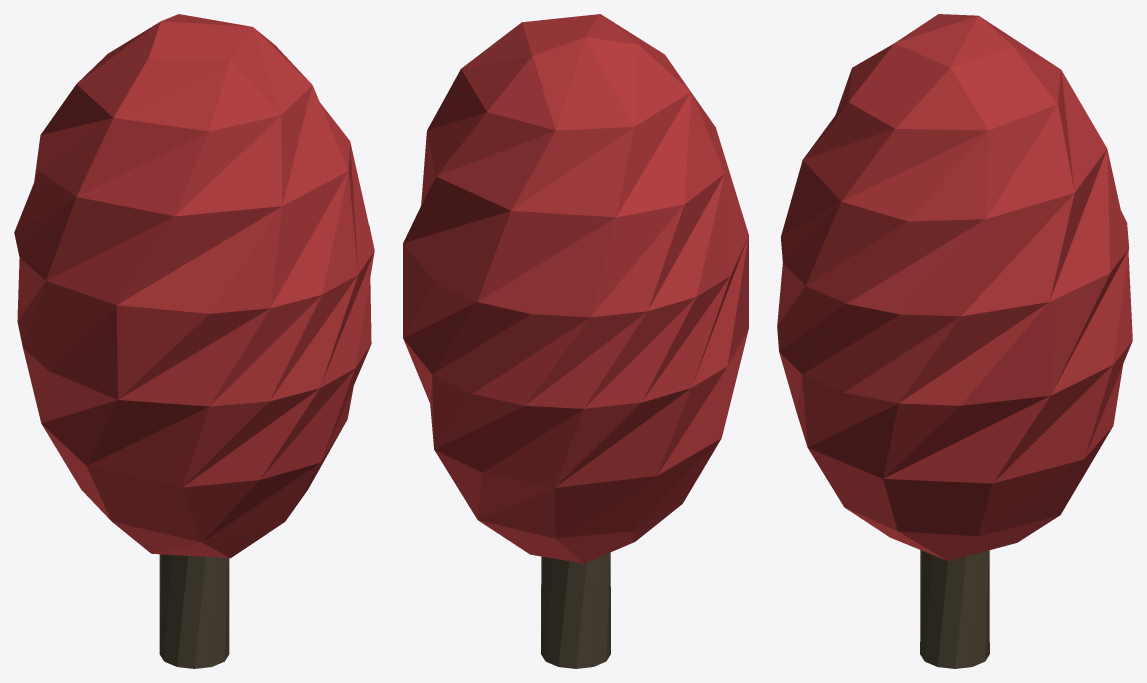
Rendered from twisted_autumn4.dae.
3 renders of one model, left to right at view 1: azimuth 30°, elevation 25°; view 2: azimuth 150°, elevation 25°; view 3: azimuth 270°, elevation 25°, orthographic.
Visible parts, largest first — view 1: Kugel, Zylinder; view 2: Kugel, Zylinder; view 3: Kugel, Zylinder.
Part boxes in pixels (x1,y1,x2,y2): Kugel: [14, 14, 374, 558]; Zylinder: [159, 554, 229, 668]; Kugel: [403, 14, 748, 563]; Zylinder: [541, 552, 610, 668]; Kugel: [777, 14, 1132, 561]; Zylinder: [920, 550, 989, 668].
Size of the model in its own units: 4.54 by 9.01 by 4.63.
